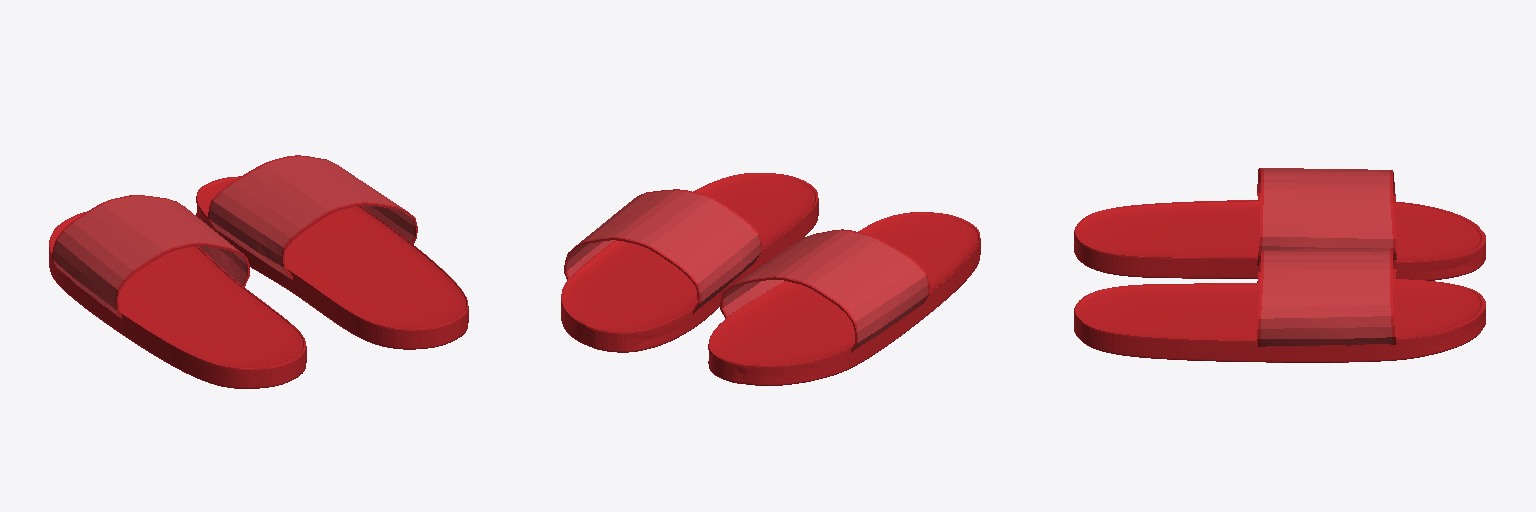
File: powerup_speed.obj
3 views of the same model, side by side, from view 1: azimuth 30°, elevation 25°; view 2: azimuth 150°, elevation 25°; view 3: azimuth 270°, elevation 25° (orthographic).
Parts seen in each view (by area): view 1: Plane; view 2: Plane; view 3: Plane.
Part boxes in pixels (bbox=[...]): Plane: bbox=[49, 155, 468, 388]; Plane: bbox=[561, 173, 980, 385]; Plane: bbox=[1074, 168, 1485, 362].
Bounding box in the file's own units: 4.61 × 1.07 × 5.47.